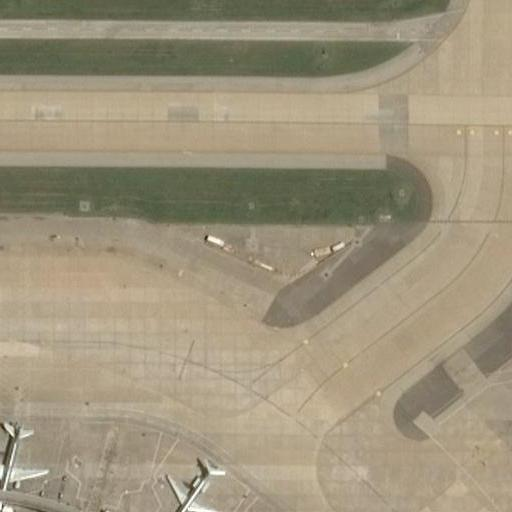Aircraft: (0, 407, 54, 507), (149, 446, 226, 512), (224, 509, 309, 512)
